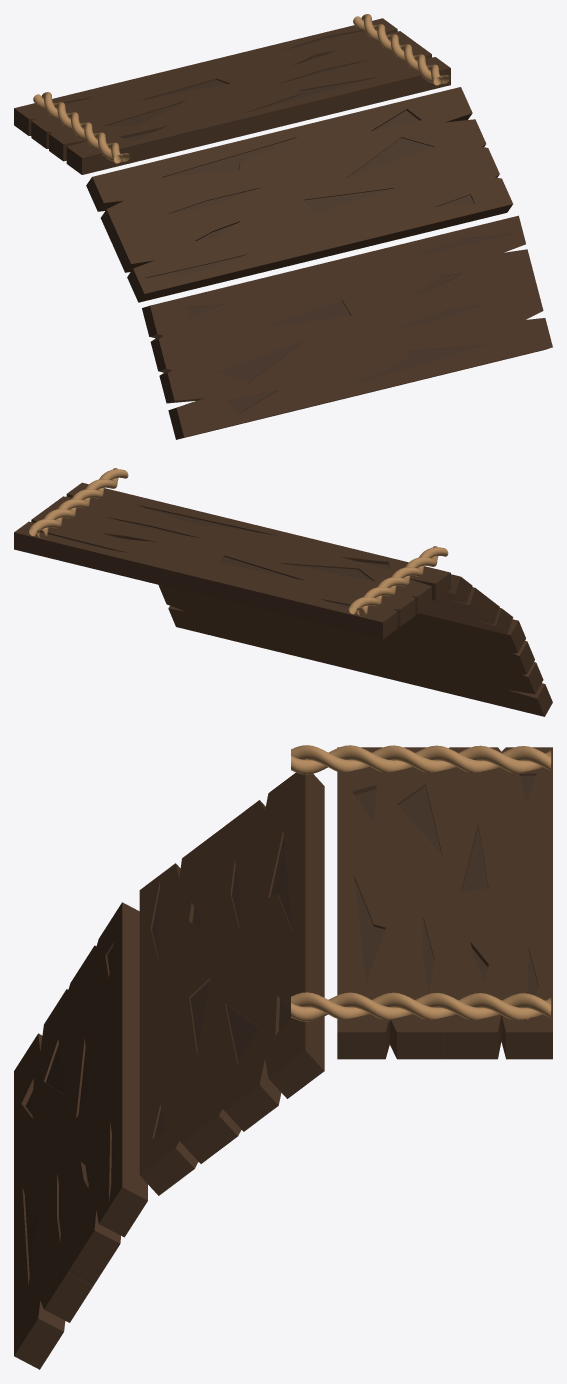
File: pont cassé.fbx
The picture shows the model from 3 angles, top to bottom: view 1: azimuth 30°, elevation 25°; view 2: azimuth 150°, elevation 25°; view 3: azimuth 270°, elevation 25°; orthographic projection. The views are drawn at different scales.
Parts seen in each view (by area): view 1: Cube.005, Cube.008, Cube.006, Cercle.002, Cercle.001; view 2: Cube.006, Cube.005, Cube.008, Cercle.002, Cercle.001; view 3: Cube.006, Cube.008, Cube.005, Cercle.001, Cercle.002.
Part boxes in pixels (left/top/right/bottom): Cube.005: left=142, top=215, right=552, bottom=439; Cube.008: left=86, top=87, right=512, bottom=302; Cube.006: left=14, top=18, right=450, bottom=174; Cercle.002: left=353, top=14, right=449, bottom=85; Cercle.001: left=33, top=92, right=129, bottom=163; Cube.006: left=14, top=482, right=450, bottom=639; Cube.005: left=158, top=585, right=552, bottom=716; Cube.008: left=419, top=574, right=513, bottom=634; Cercle.002: left=29, top=468, right=128, bottom=538; Cercle.001: left=348, top=546, right=448, bottom=616; Cube.006: left=337, top=747, right=552, bottom=1059; Cube.008: left=139, top=772, right=324, bottom=1195; Cube.005: left=14, top=902, right=147, bottom=1369; Cercle.001: left=291, top=745, right=551, bottom=774; Cercle.002: left=291, top=992, right=551, bottom=1021.
Bounding box in the file's own units: 626 × 366 × 500.
